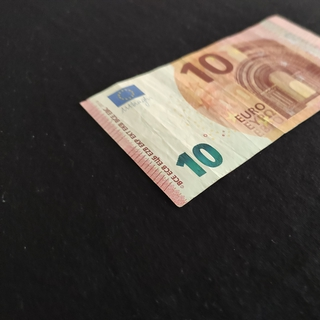10EUROFront: (78, 14, 320, 208)
